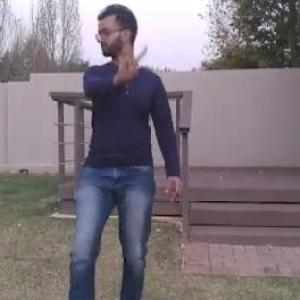takeoff-hand: (114, 44, 152, 90)
